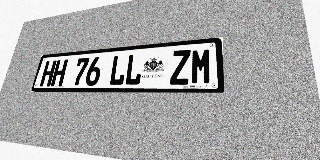6: (84, 56, 103, 86)
7: (71, 58, 90, 86)
H: (50, 59, 68, 86), (39, 60, 57, 86)
L: (108, 54, 128, 86), (124, 53, 144, 85)
M: (190, 48, 212, 85)
Z: (170, 49, 191, 85)
